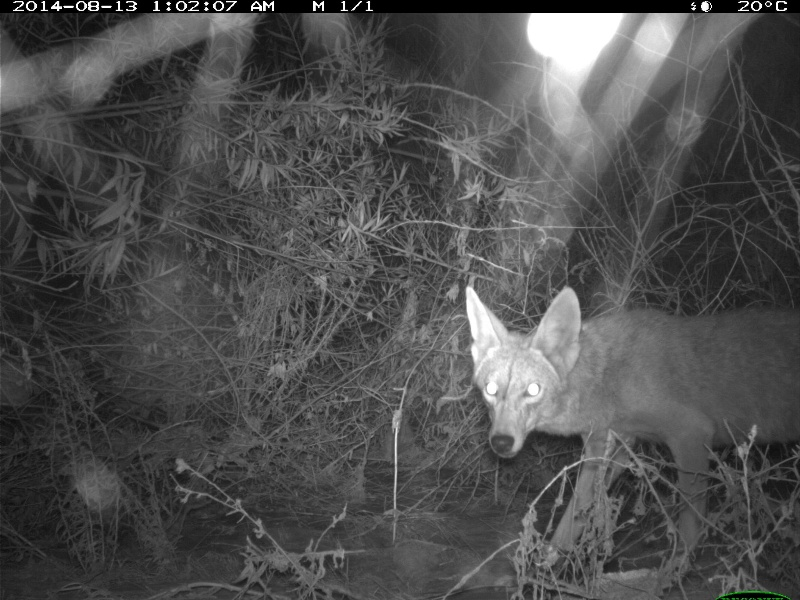coyote: (457, 271, 800, 570)
